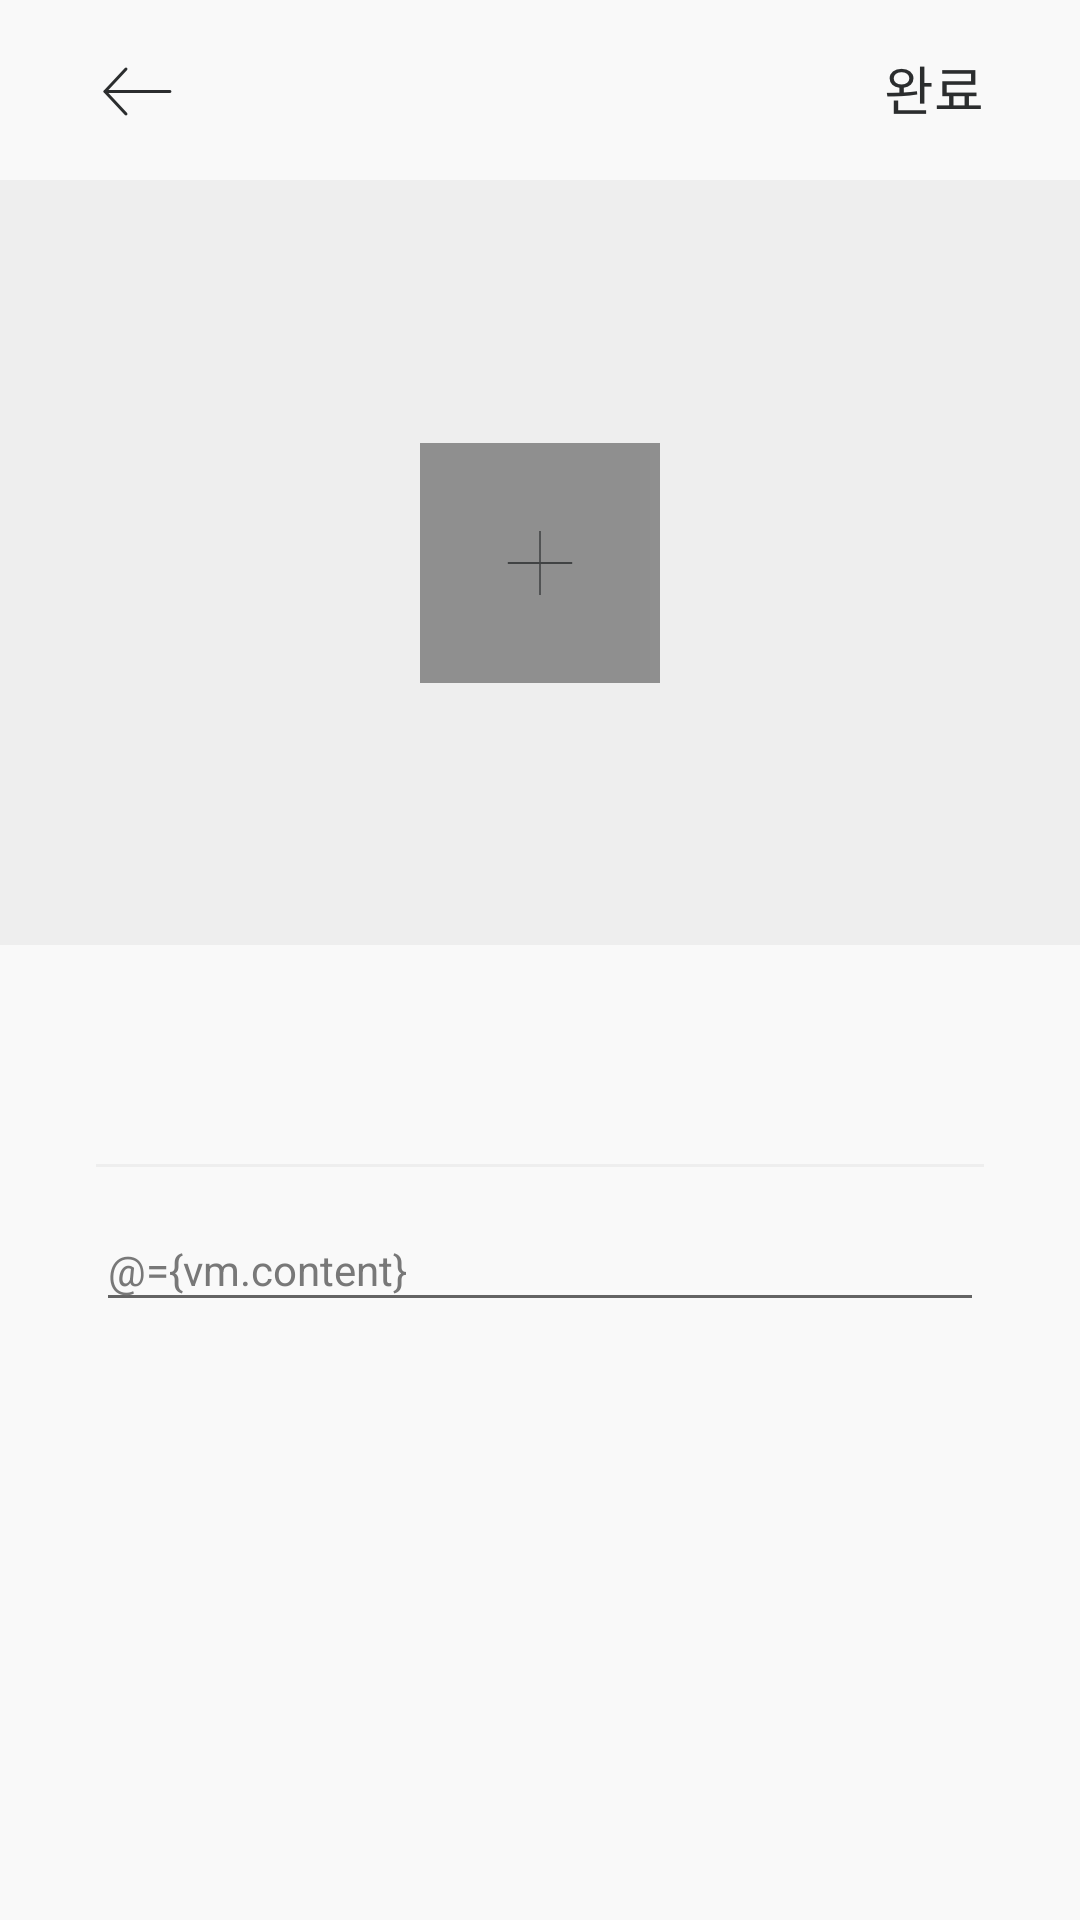

Where to tap for icons on this 1080×1920 app screen, as point (x, y):
add: point (540, 563)
allow left: point (137, 91)
